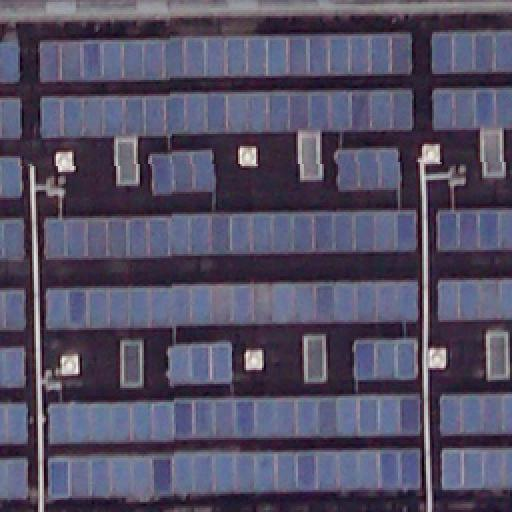solar-panel: (49, 446, 423, 498), (37, 30, 411, 82), (45, 279, 419, 329), (45, 394, 419, 442), (41, 210, 415, 258), (41, 90, 415, 138), (432, 86, 512, 130), (432, 30, 512, 74), (433, 208, 511, 252), (436, 276, 512, 320), (440, 392, 512, 436), (335, 145, 401, 191), (440, 447, 512, 489), (150, 149, 214, 195), (352, 339, 420, 381), (170, 342, 234, 386), (1, 400, 31, 444), (1, 455, 31, 497), (0, 347, 28, 389), (0, 288, 26, 328), (0, 219, 24, 261), (0, 155, 24, 197), (1, 95, 23, 137), (0, 39, 20, 81)
